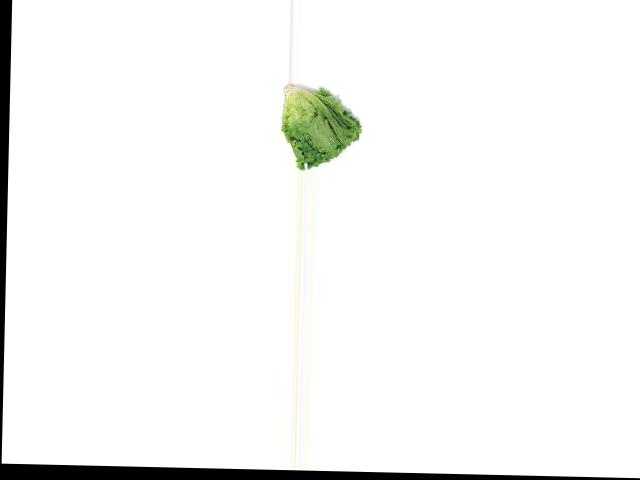lettuce: (274, 81, 369, 171)
